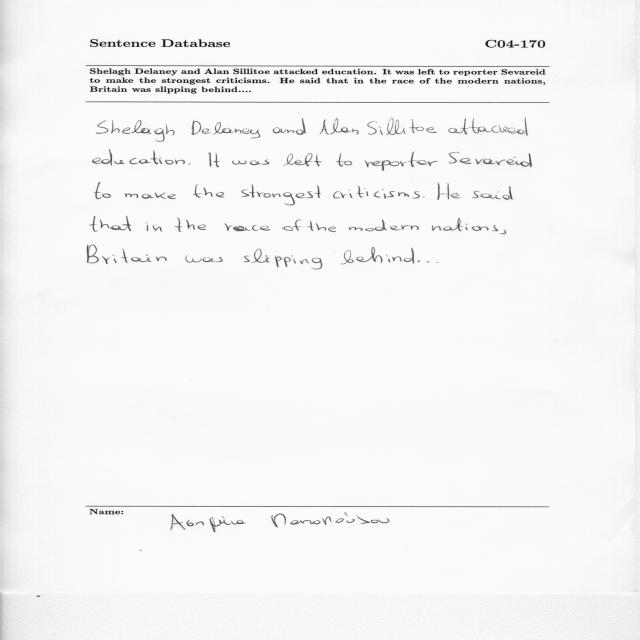word: (241, 184, 321, 206), (97, 120, 175, 142), (244, 249, 323, 270), (93, 149, 185, 166), (87, 245, 167, 264), (365, 151, 438, 171), (448, 118, 528, 136), (449, 152, 532, 167), (192, 120, 261, 138), (341, 247, 414, 264), (367, 119, 437, 136), (333, 186, 420, 199), (432, 218, 498, 231), (349, 220, 419, 232), (320, 118, 359, 135), (90, 216, 131, 232), (472, 186, 513, 200), (273, 118, 306, 135), (283, 153, 322, 166), (175, 218, 207, 232), (437, 183, 461, 200), (193, 185, 224, 198), (225, 223, 271, 231), (307, 221, 336, 232), (124, 193, 176, 199), (185, 255, 223, 263), (95, 182, 111, 199), (282, 219, 302, 231), (336, 153, 352, 167), (232, 160, 269, 165), (209, 153, 220, 168), (146, 223, 163, 232), (417, 260, 438, 263), (500, 230, 507, 234), (188, 163, 190, 165), (423, 197, 425, 197)
